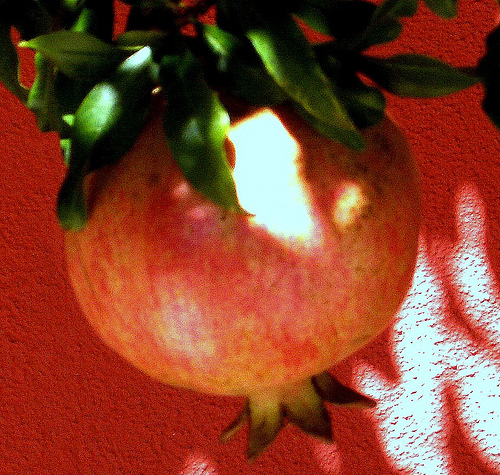pomogranate: (59, 23, 428, 463)
